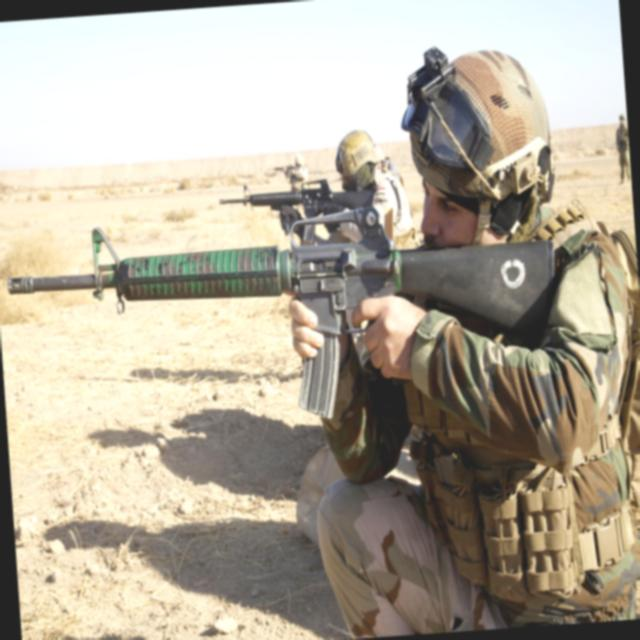m16: (0, 183, 580, 541)
